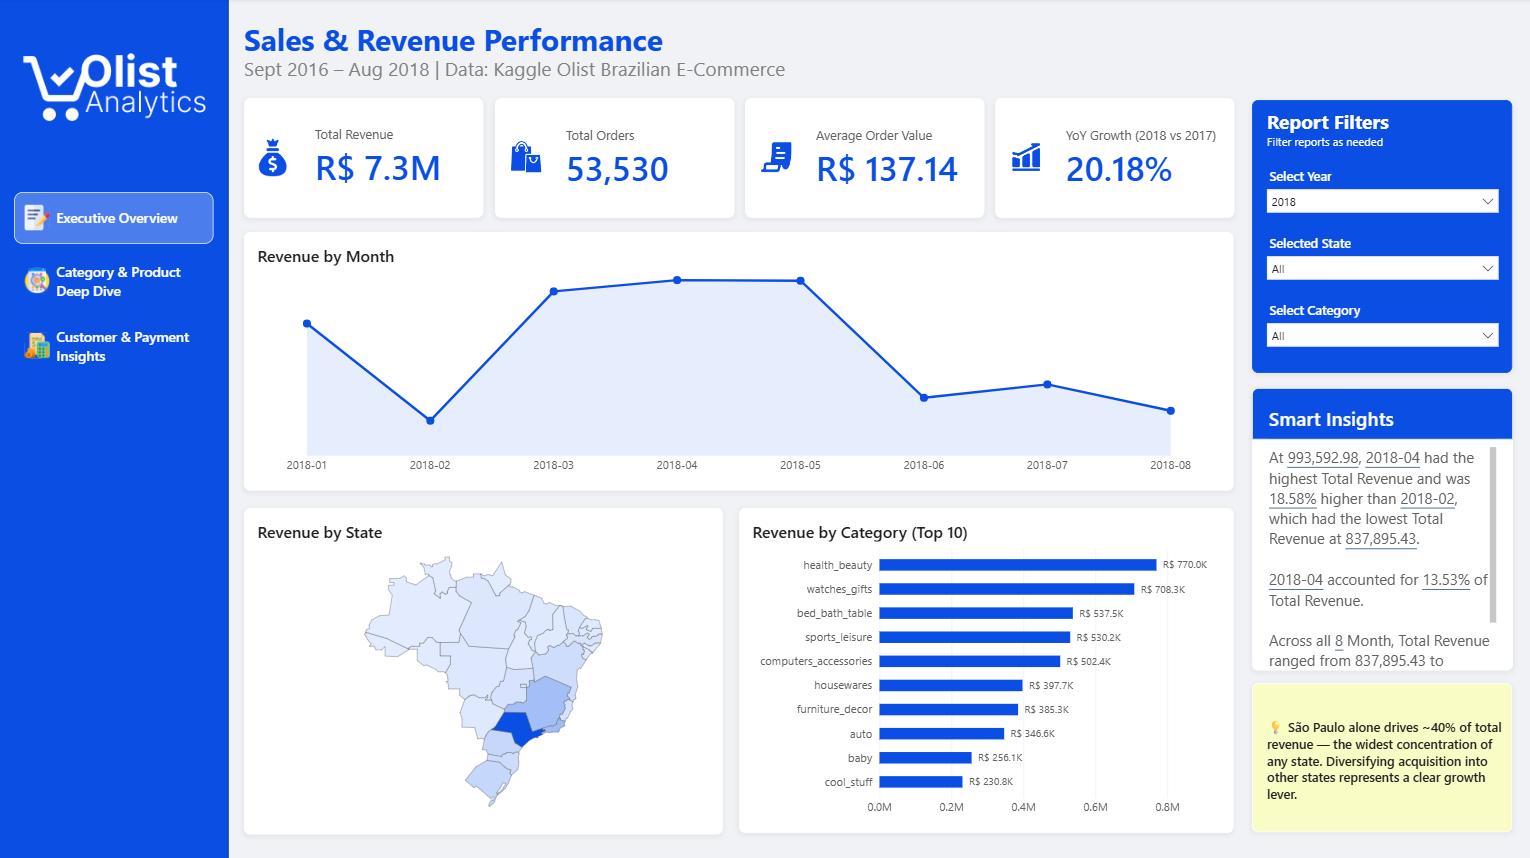

The page's visual inventory and layout, read from the dashboard file:
{"tool":"powerbi","page":{"name":"Executive Overview","canvas":[1920,1080],"ordinal":0},"visuals":[{"type":"shape","box":[0,0,288.9,1080],"z":0},{"type":"shape","box":[308.8,125,300,150],"z":500,"group":"g1"},{"type":"shape","box":[622.5,125,300,150],"z":500,"group":"g2"},{"type":"shape","box":[935.6,125,300,150],"z":500,"group":"g3"},{"type":"shape","box":[1249,125,300,150],"z":500,"group":"g4"},{"type":"image","box":[321.4,134.9,47,128],"z":750,"group":"g1"},{"type":"image","box":[642.5,135,37.5,127.5],"z":750,"group":"g2"},{"type":"image","box":[955.6,135,37.5,127.5],"z":750,"group":"g3"},{"type":"image","box":[1269,135,37.5,127.5],"z":750,"group":"g4"},{"type":"shape","title":"Filters","box":[1570.9,127.3,326.4,341.8],"z":1000,"group":"g5"},{"type":"shape","box":[1571.4,858.6,325.7,187.1],"z":1000},{"type":"group","id":"g1","title":"Group 2","box":[308.8,125,300,150],"z":2000},{"type":"group","id":"g2","title":"Group 2","box":[622.5,125,300,150],"z":3000},{"type":"group","id":"g3","title":"Group 2","box":[935.6,125,300,150],"z":4000},{"type":"group","id":"g4","title":"Group 2","box":[1249,125,300,150],"z":5000},{"type":"cardVisual","fields":{"Data":["_Measures.Total Revenue Formatted"]},"box":[376.7,134.2,222.5,130.8],"z":6000},{"type":"cardVisual","fields":{"Data":["_Measures.Total Orders Formatted"]},"box":[691.2,135,222,130],"z":7000},{"type":"cardVisual","fields":{"Data":["_Measures.AOV Formatted"]},"box":[1004.3,135,222,130],"z":8000},{"type":"cardVisual","fields":{"Data":["_Measures.Revenue YoY % (2018 vs 2017)"]},"box":[1318,135,222,130],"z":9000},{"type":"lineChart","title":"Revenue by Month","fields":{"Category":["dim_date.year_month"],"Y":["_Measures.Total Revenue"]},"box":[308.6,292.9,1240,324.3],"z":10000},{"type":"shapeMap","title":"Revenue by State","fields":{"Category":["dim_customer.customer_state"],"Value":["_Measures.Total Revenue"]},"box":[308.6,638.6,600,408.6],"z":11000},{"type":"clusteredBarChart","title":"Revenue by Category (Top 10)","fields":{"Category":["dim_product.category_name_en"],"Y":["_Measures.Total Revenue"]},"box":[928.6,638.6,620,407.1],"z":12000},{"type":"actionButton","box":[20,242.5,250,65],"z":13000},{"type":"actionButton","box":[20,322.5,250,65],"z":14000},{"type":"slicer","fields":{"Values":["dim_date.year"]},"box":[1584.5,211.8,300,75.5],"z":15000,"group":"g5"},{"type":"actionButton","box":[20,403.8,250,65],"z":15000},{"type":"textbox","box":[308.6,25.7,545.7,55.7],"z":16000},{"type":"slicer","fields":{"Values":["dim_customer.customer_state"]},"box":[1584.5,295.5,300,75.5],"z":16000,"group":"g5"},{"type":"textbox","box":[308.6,71.4,797.1,40],"z":17000},{"type":"slicer","fields":{"Values":["dim_product.category_name_en"]},"box":[1584.5,379.1,300,75.5],"z":17000,"group":"g5"},{"type":"image","box":[24.3,50,238.6,121.4],"z":18000},{"type":"textbox","box":[1590,137.8,287.8,62.2],"z":18000,"group":"g5"},{"type":"group","id":"g5","title":"Group 1","box":[1570.9,127.3,326.4,341.8],"z":19000},{"type":"textbox","title":"Smart Insights","box":[1571.4,488.6,327.1,354.3],"z":20000},{"type":"cardVisual","fields":{"Data":["_Measures.Insight - State Concentration"]},"box":[1589.3,875.2,295.1,156.8],"z":21000}]}

Visuals, with their boxes on the page's 1920x1080 design canvas (x1, y1, x2, y2). These are canvas units, not pixel positions in the 1530x858 screenshot, which may show the page scaled, cropped or inside an application window:
shape: <box>0,0,289,1080</box>
shape: <box>309,125,609,275</box>
shape: <box>622,125,922,275</box>
shape: <box>936,125,1236,275</box>
shape: <box>1249,125,1549,275</box>
image: <box>321,135,368,263</box>
image: <box>642,135,680,262</box>
image: <box>956,135,993,262</box>
image: <box>1269,135,1306,262</box>
"Filters" shape: <box>1571,127,1897,469</box>
shape: <box>1571,859,1897,1046</box>
"Group 2" group: <box>309,125,609,275</box>
"Group 2" group: <box>622,125,922,275</box>
"Group 2" group: <box>936,125,1236,275</box>
"Group 2" group: <box>1249,125,1549,275</box>
cardVisual - _Measures.Total Revenue Formatted: <box>377,134,599,265</box>
cardVisual - _Measures.Total Orders Formatted: <box>691,135,913,265</box>
cardVisual - _Measures.AOV Formatted: <box>1004,135,1226,265</box>
cardVisual - _Measures.Revenue YoY % (2018 vs 2017): <box>1318,135,1540,265</box>
"Revenue by Month" lineChart: <box>309,293,1549,617</box>
"Revenue by State" shapeMap: <box>309,639,909,1047</box>
"Revenue by Category (Top 10)" clusteredBarChart: <box>929,639,1549,1046</box>
actionButton: <box>20,242,270,308</box>
actionButton: <box>20,322,270,388</box>
slicer - dim_date.year: <box>1584,212,1884,287</box>
actionButton: <box>20,404,270,469</box>
textbox: <box>309,26,854,81</box>
slicer - dim_customer.customer_state: <box>1584,296,1884,371</box>
textbox: <box>309,71,1106,111</box>
slicer - dim_product.category_name_en: <box>1584,379,1884,455</box>
image: <box>24,50,263,171</box>
textbox: <box>1590,138,1878,200</box>
"Group 1" group: <box>1571,127,1897,469</box>
"Smart Insights" textbox: <box>1571,489,1898,843</box>
cardVisual - _Measures.Insight - State Concentration: <box>1589,875,1884,1032</box>
